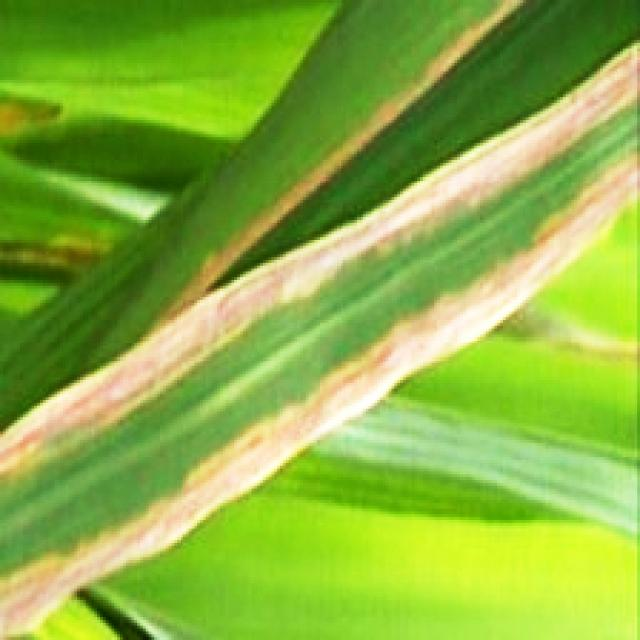unhealth: (4, 41, 640, 640)
